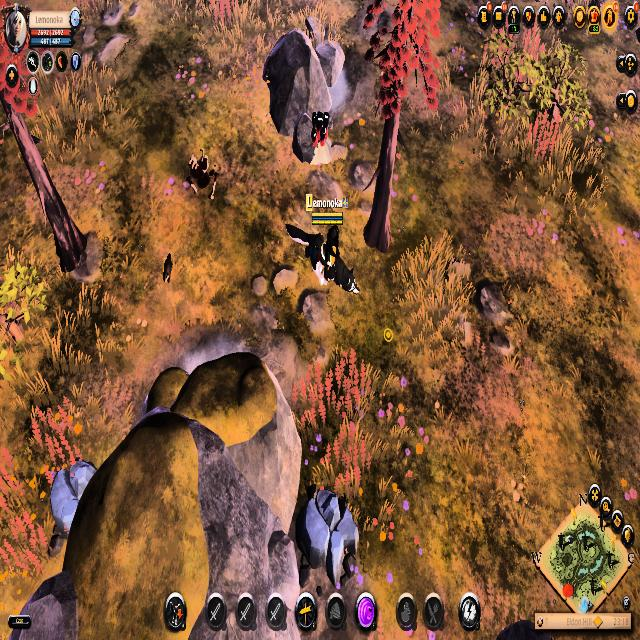ore tier 5: (304, 108, 335, 169)
rock tier 4: (292, 480, 360, 591)
wood tier 5: (361, 0, 442, 136)
